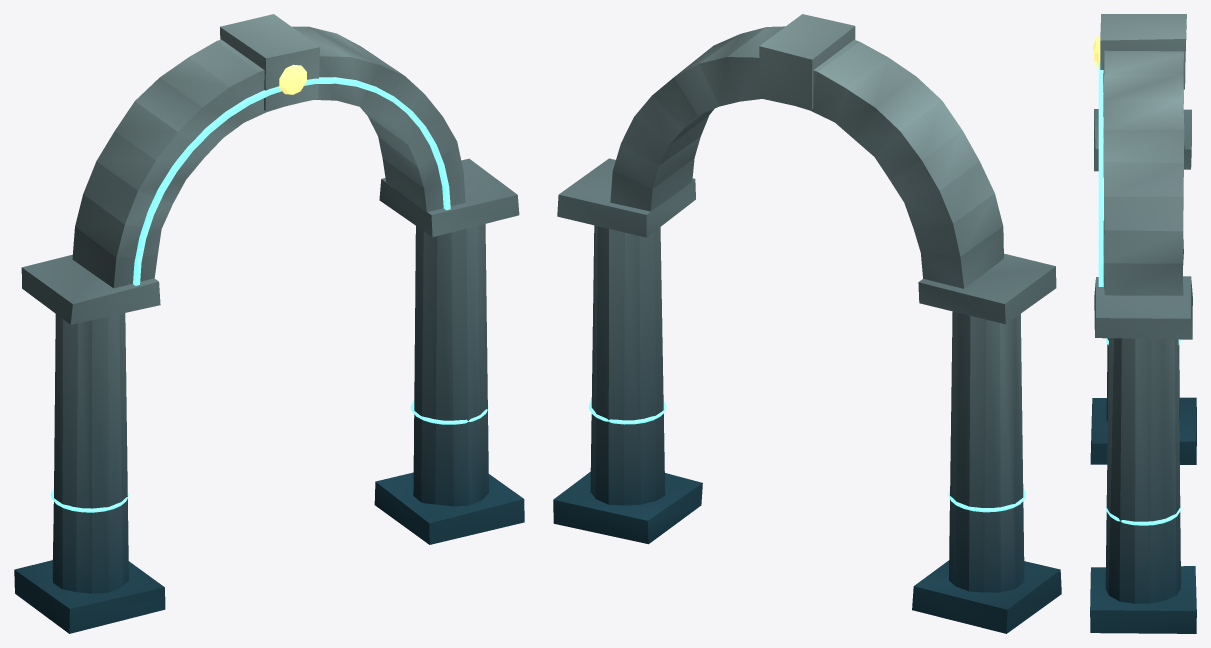
File: ruin_arch_gate.glb
The picture shows the model from 3 angles, left to right: view 1: azimuth 30°, elevation 25°; view 2: azimuth 150°, elevation 25°; view 3: azimuth 270°, elevation 25°; orthographic projection. The views are drawn at different scales.
Parts seen in each view (by area): view 1: ruin_arch_gate_stone, ruin_arch_gate_glow; view 2: ruin_arch_gate_stone, ruin_arch_gate_glow; view 3: ruin_arch_gate_stone, ruin_arch_gate_glow, ruin_arch_gate_warm.
Boxes of the visible parts, x1,y1,x2,y2 form: ruin_arch_gate_stone: [14, 14, 524, 633]; ruin_arch_gate_glow: [51, 77, 488, 512]; ruin_arch_gate_stone: [553, 14, 1061, 633]; ruin_arch_gate_glow: [588, 400, 1026, 512]; ruin_arch_gate_stone: [1090, 14, 1196, 633]; ruin_arch_gate_glow: [1098, 62, 1180, 525]; ruin_arch_gate_warm: [1093, 36, 1100, 67].
Bounding box in the file's own units: 10.11 × 11.11 × 2.14.
